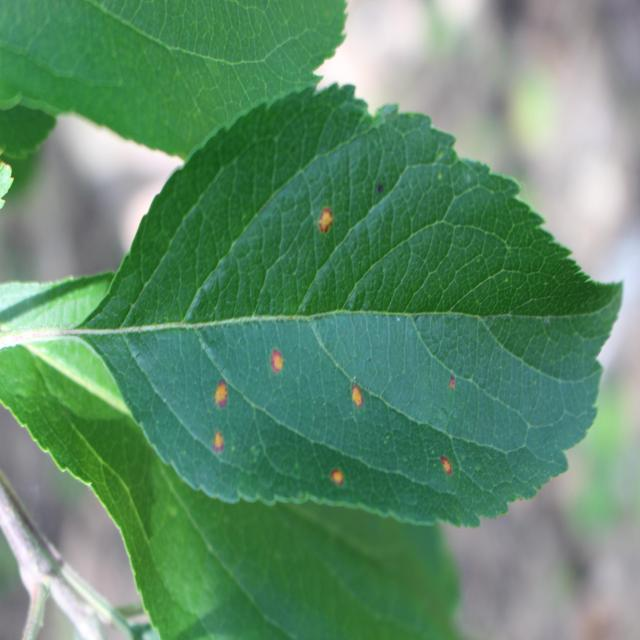Rust: (309, 197, 339, 254), (314, 460, 355, 497), (434, 432, 457, 493), (210, 364, 231, 418), (269, 339, 291, 387), (439, 364, 464, 402), (348, 373, 368, 420), (209, 428, 233, 462)
